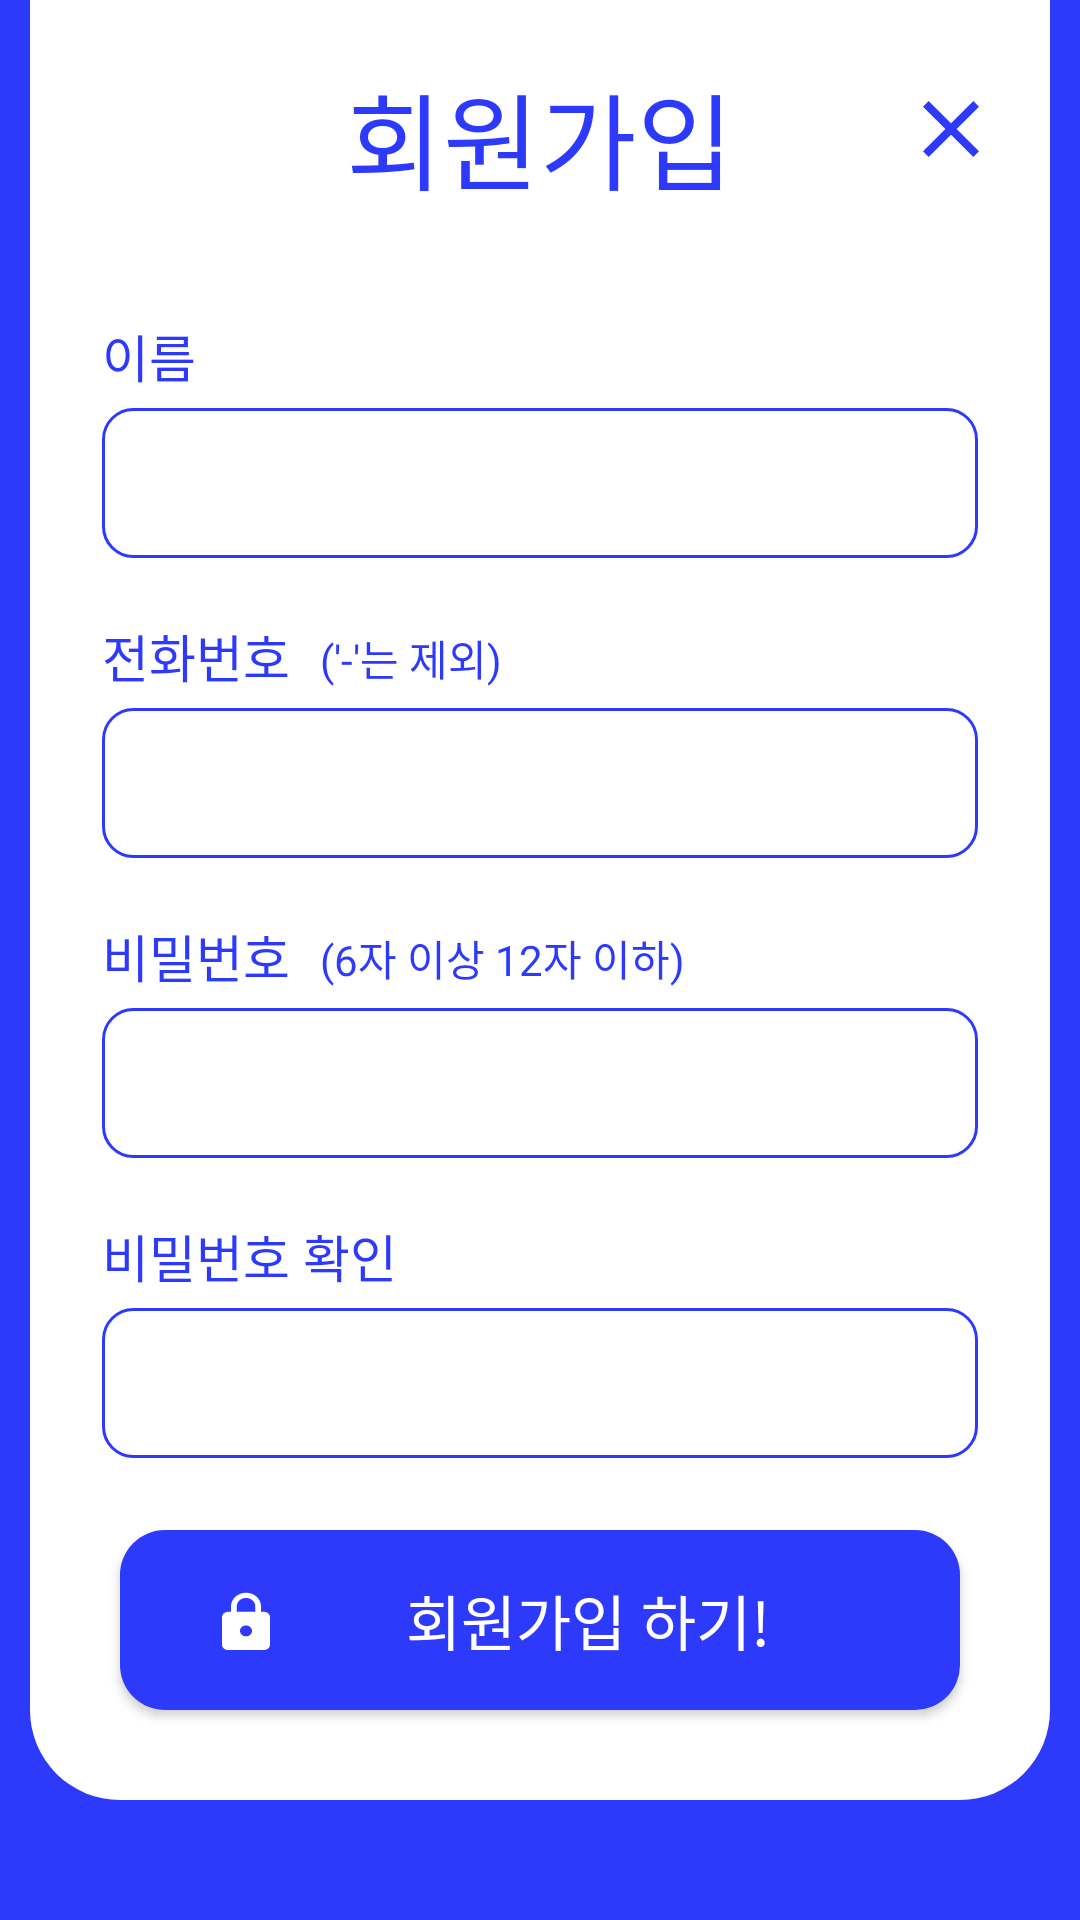

Named icons in this screenshot (1080px x 1920px) and their bounding boxes, (x1, y1, x2, y2):
cancel iv: (923, 101, 979, 157)
